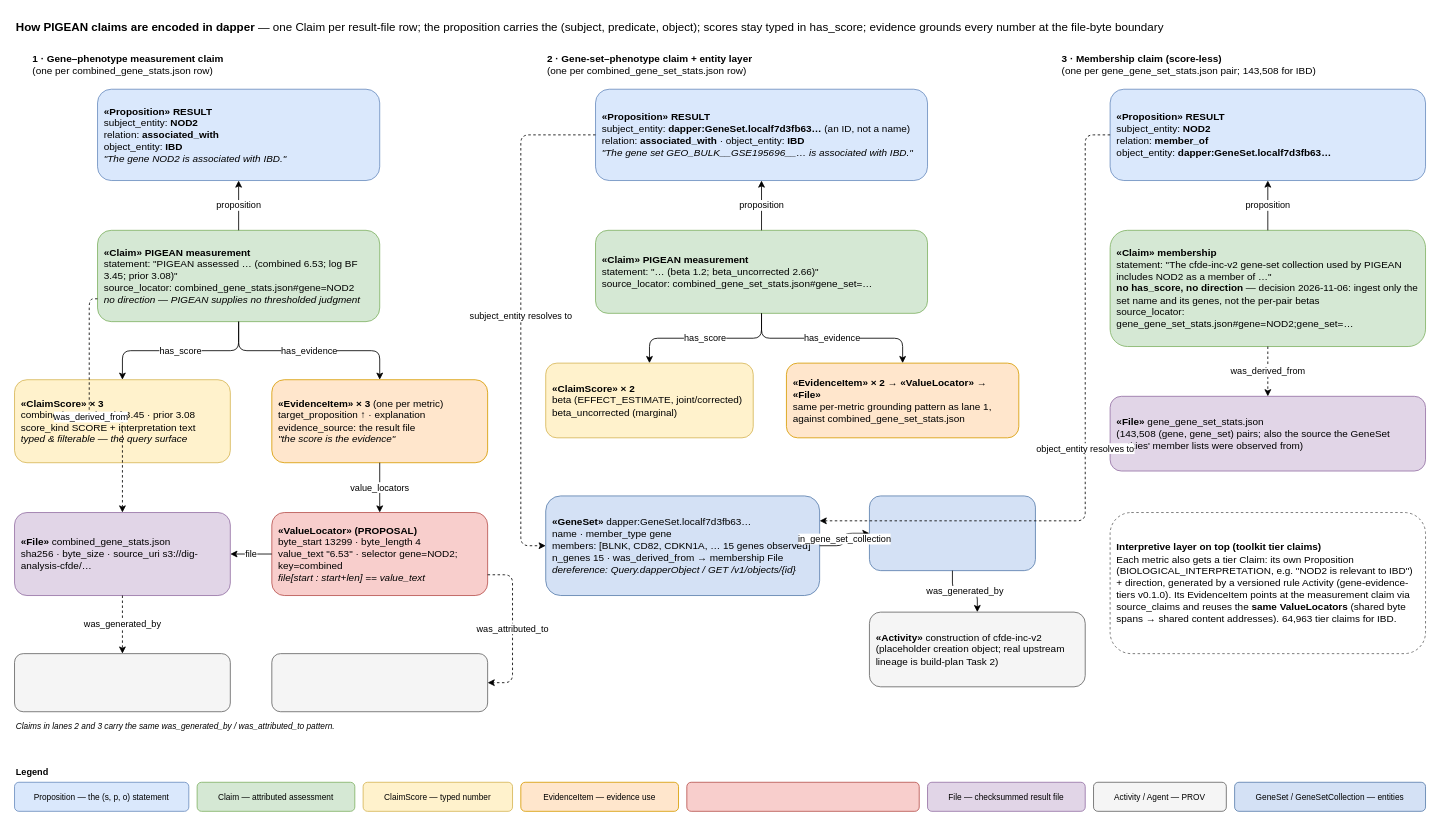
The diagram is 1440 pixels wide and 826 high, and some of its shapes have lost their labels. The shapes that lost their labels are listed below. From the top down, each one's centre as x and y in pixels, then its label:
At (952,533): "«GeneSetCollection» cfde-inc-v2 member_type gene_set".
At (122,682): "«Activity» PIGEAN aggregation run (Task-2 provenance sidecar pending)".
At (379,682): "«Agent» DIG aggregator pipeline".
At (802,796): "ValueLocator — byte-span grounding (PROPOSAL)".
